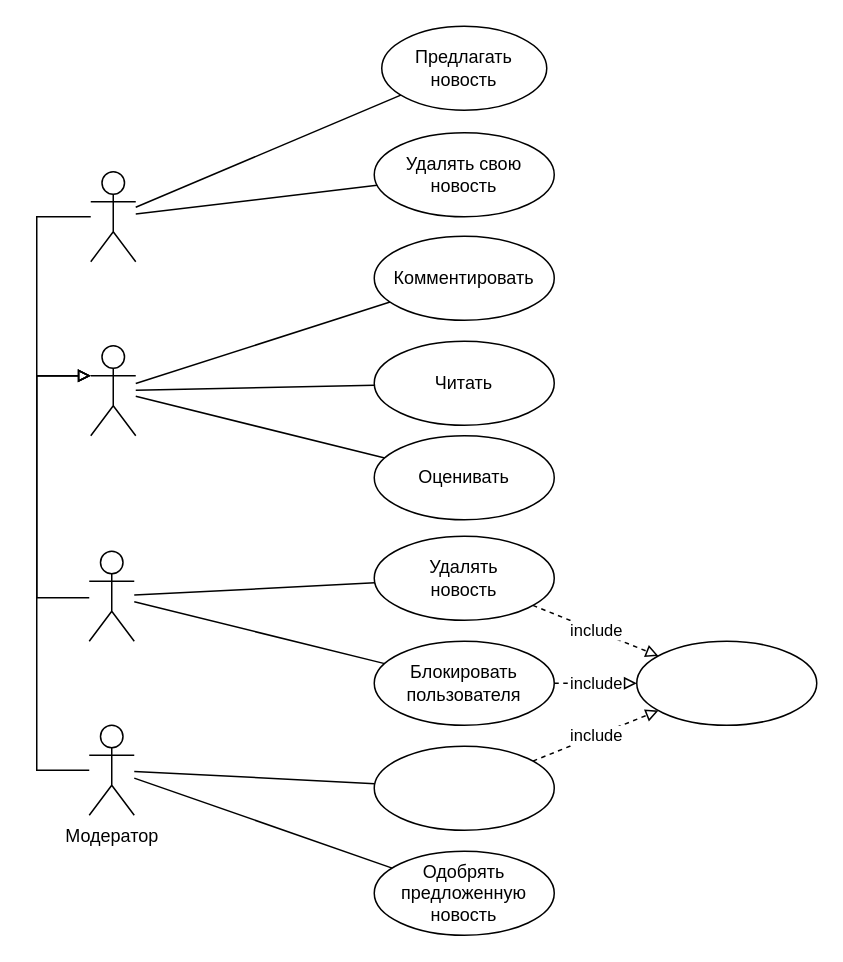
This 843x962 diagram has some shape labels left out. The box of each missing label's shape, as (x1, y1, x2, y2) in pixels:
Автор: (89, 170, 136, 262)
Администратор: (88, 550, 134, 641)
Комментировать действие: (635, 640, 817, 725)
Отклонять предложенную новость: (373, 745, 554, 830)
Пользователь: (89, 344, 136, 436)
